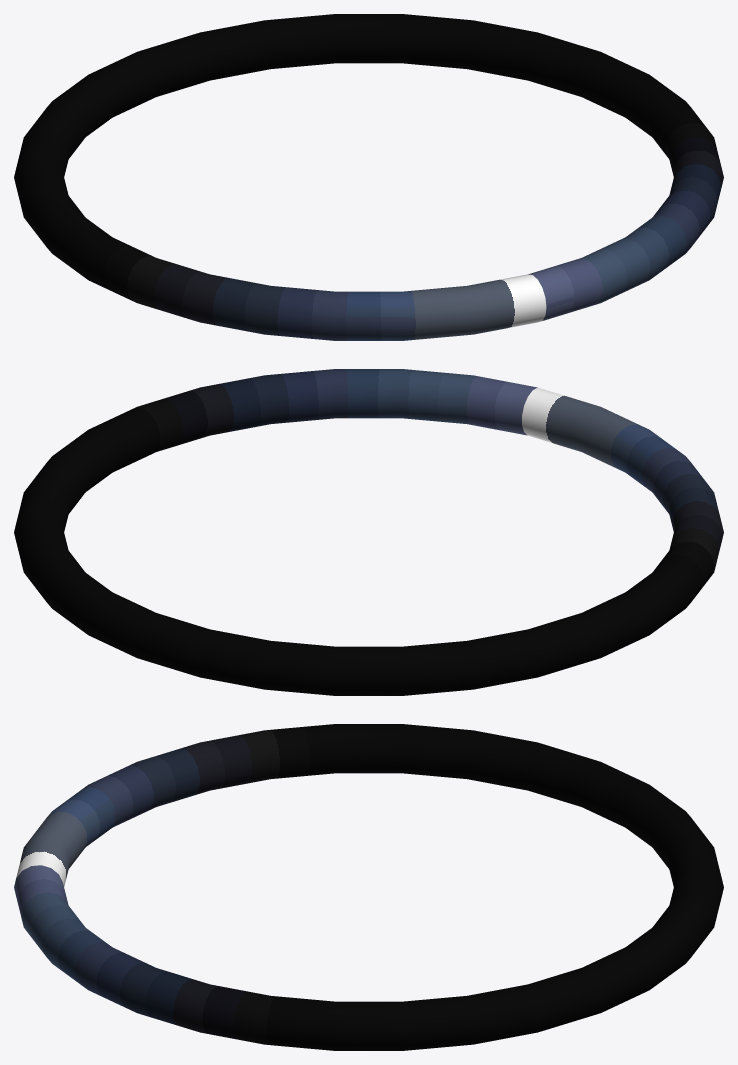
Rendered from 0476_xingkong_M.glb.
3 renders of one model, top to bottom at view 1: azimuth 30°, elevation 25°; view 2: azimuth 150°, elevation 25°; view 3: azimuth 270°, elevation 25°, orthographic.
Size of the model in its own units: 2.19 by 0.1526 by 2.2.
1 material, 1 textured.
